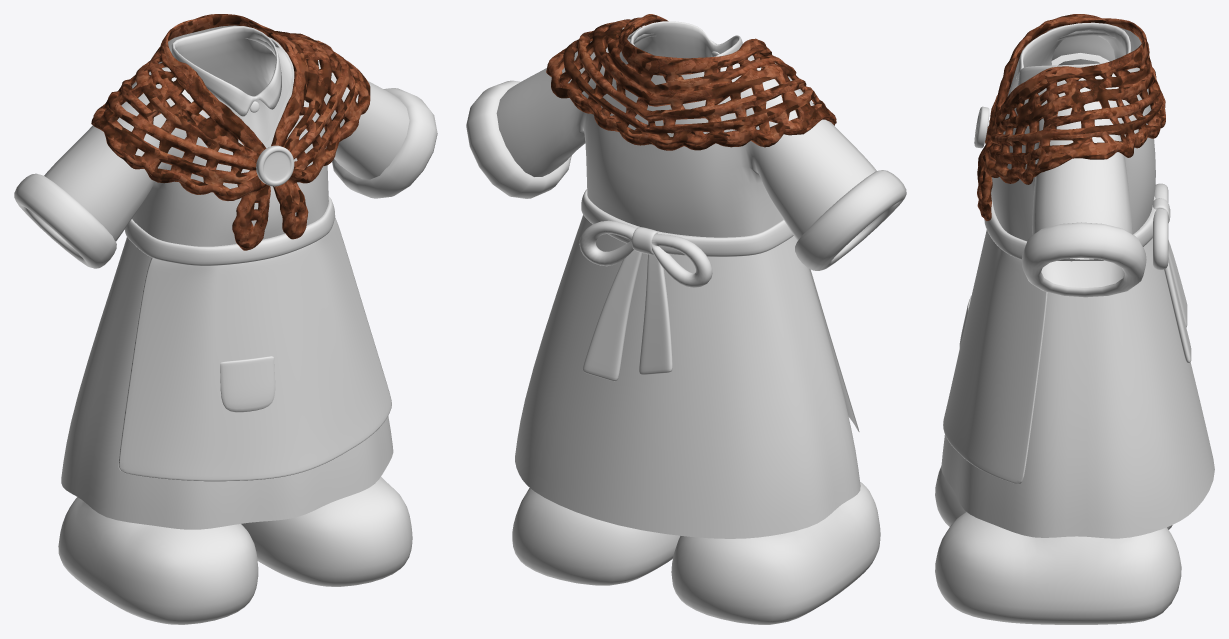
File: Outfit002_Painter.fbx
The picture shows the model from 3 angles, left to right: view 1: azimuth 30°, elevation 25°; view 2: azimuth 150°, elevation 25°; view 3: azimuth 270°, elevation 25°; orthographic projection. The views are drawn at different scales.
Parts seen in each view (by area): view 1: Painter_Apron, Painter_Dress, Painter_Boots, Shawl_low, Painter_Shirt, Brooch_low; view 2: Painter_Dress, Painter_Boots, Shawl_low, Painter_Apron, Painter_Shirt; view 3: Painter_Dress, Painter_Boots, Painter_Apron, Shawl_low, Painter_Shirt, Brooch_low.
Boxes of the visible parts, left/top/right/bottom form: Painter_Apron: left=118, top=196, right=391, bottom=481; Painter_Dress: left=14, top=25, right=437, bottom=529; Painter_Boots: left=58, top=477, right=412, bottom=624; Shawl_low: left=91, top=14, right=370, bottom=250; Painter_Shirt: left=171, top=26, right=291, bottom=144; Brooch_low: left=256, top=145, right=294, bottom=186; Painter_Dress: left=466, top=27, right=906, bottom=538; Painter_Boots: left=512, top=482, right=880, bottom=624; Shawl_low: left=546, top=14, right=836, bottom=150; Painter_Apron: left=579, top=189, right=859, bottom=431; Painter_Shirt: left=628, top=21, right=742, bottom=58; Painter_Dress: left=941, top=25, right=1214, bottom=538; Painter_Boots: left=935, top=465, right=1181, bottom=624; Painter_Apron: left=943, top=183, right=1191, bottom=483; Shawl_low: left=977, top=14, right=1165, bottom=220; Painter_Shirt: left=1016, top=22, right=1130, bottom=86; Brooch_low: left=974, top=106, right=989, bottom=148.
Size of the model in its own units: 173 by 104 by 215.
